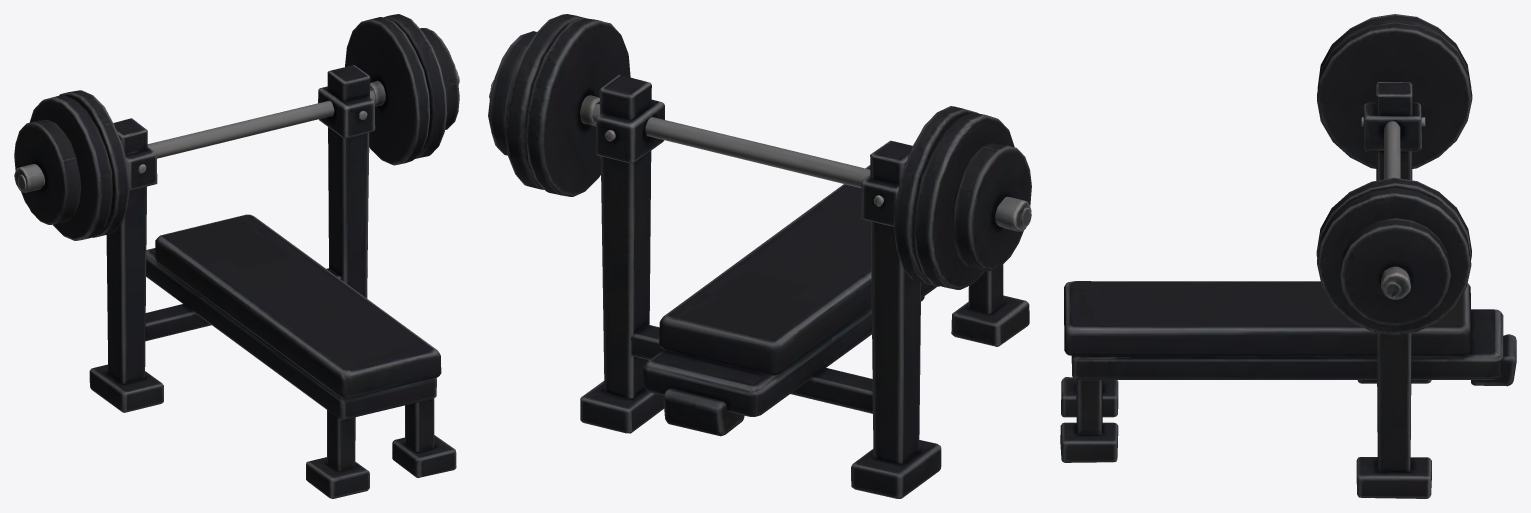
The model's file is weight-bench.glb.
3 renders of one model, left to right at view 1: azimuth 30°, elevation 25°; view 2: azimuth 150°, elevation 25°; view 3: azimuth 270°, elevation 25°, orthographic. The views are drawn at different scales.
Visible parts, largest first — view 1: meshy-weight-bench; view 2: meshy-weight-bench; view 3: meshy-weight-bench.
Part boxes in pixels (left/top/right/bottom): meshy-weight-bench: left=14, top=14, right=459, bottom=498; meshy-weight-bench: left=488, top=14, right=1031, bottom=498; meshy-weight-bench: left=1060, top=14, right=1516, bottom=498.
Size of the model in its own units: 1.75 by 1.2 by 1.51.
Materials: 1 (1 with a texture image).
